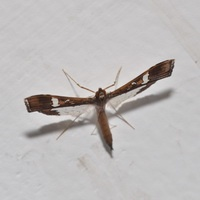insect: (24, 59, 174, 155)
